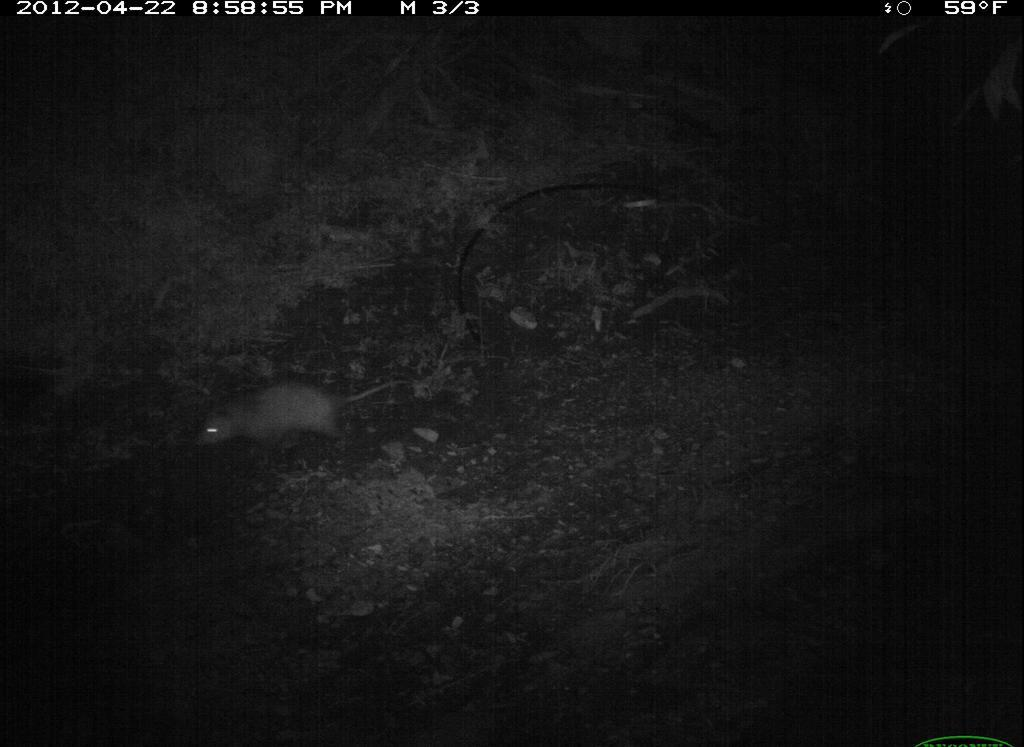opossum: (193, 360, 409, 470)
